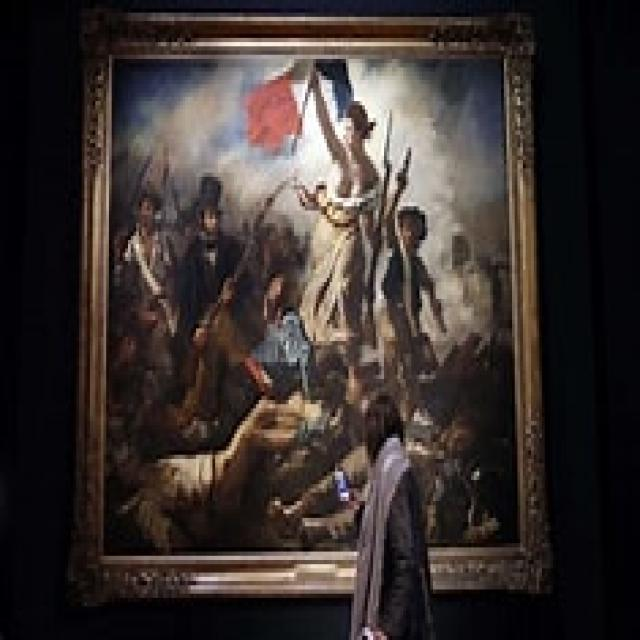libre: (104, 41, 527, 557)
